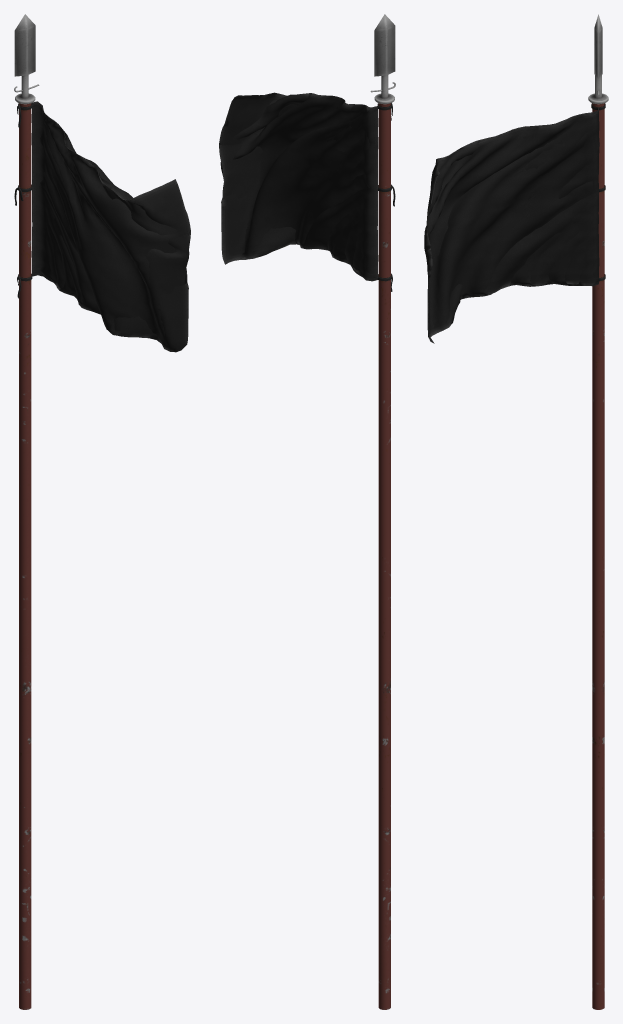
The model's file is SM_Flag_Wind_3.fbx.
3 renders of one model, left to right at view 1: azimuth 30°, elevation 25°; view 2: azimuth 210°, elevation 25°; view 3: azimuth 270°, elevation 25°, orthographic.
Parts seen in each view (by area): view 1: SM_Flag_Wind_3; view 2: SM_Flag_Wind_3; view 3: SM_Flag_Wind_3.
Boxes of the visible parts, box(x1,y1,x2,y2) form: SM_Flag_Wind_3: box(14, 14, 190, 1009); SM_Flag_Wind_3: box(219, 14, 395, 1009); SM_Flag_Wind_3: box(424, 14, 608, 1009).
Bounding box in the file's own units: 45.79 × 80.32 × 477.
Materials: 1 (1 with a texture image).
